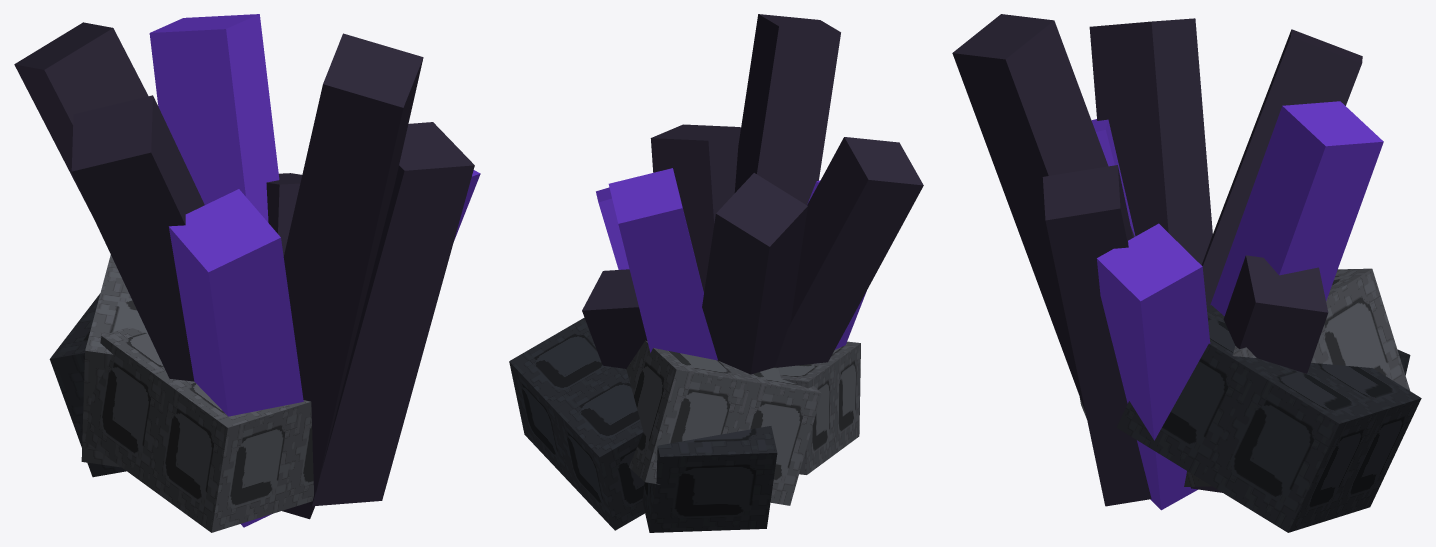
The model's file is ObsidianShards.glb.
3 renders of one model, left to right at view 1: azimuth 30°, elevation 25°; view 2: azimuth 150°, elevation 25°; view 3: azimuth 270°, elevation 25°, orthographic. The views are drawn at different scales.
Parts seen in each view (by area): view 1: ObsidianShards; view 2: ObsidianShards; view 3: ObsidianShards.
Boxes of the visible parts, x1,y1,x2,y2 form: ObsidianShards: (14, 14, 480, 532); ObsidianShards: (509, 14, 923, 532); ObsidianShards: (952, 14, 1421, 532).
Bounding box in the file's own units: 4.63 × 5.47 × 4.93.
Materials: 1 (1 with a texture image).
